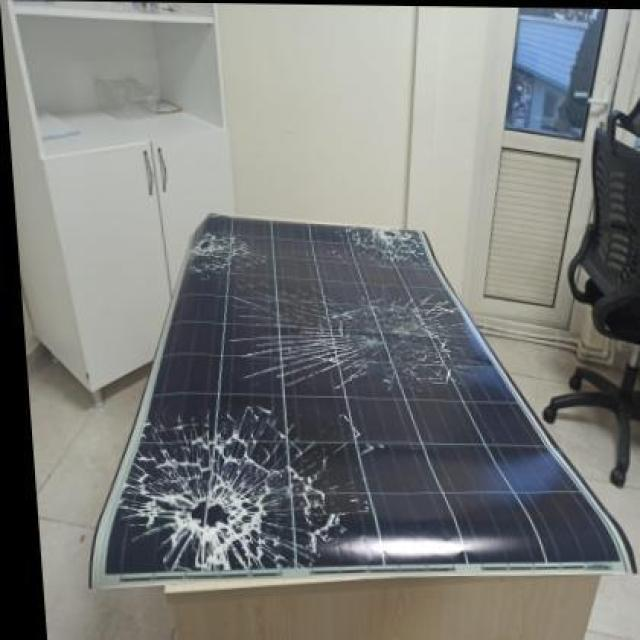cracked: (106, 209, 618, 576)
